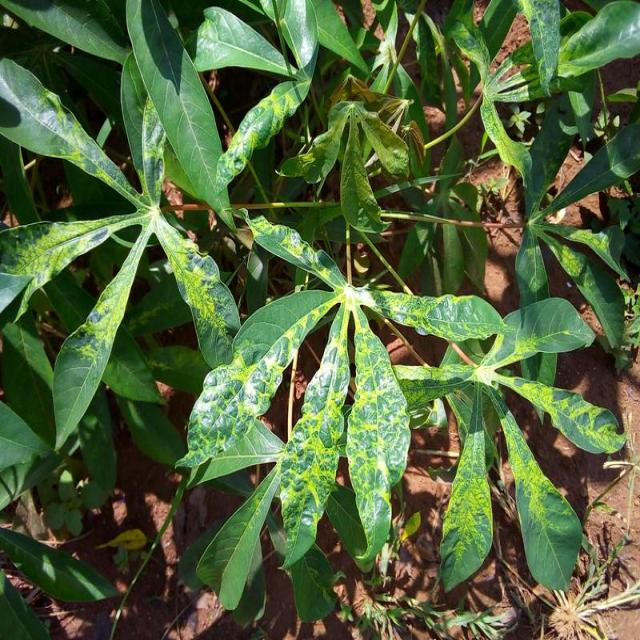cassava leaf: (1, 1, 637, 628), (124, 0, 236, 233)
